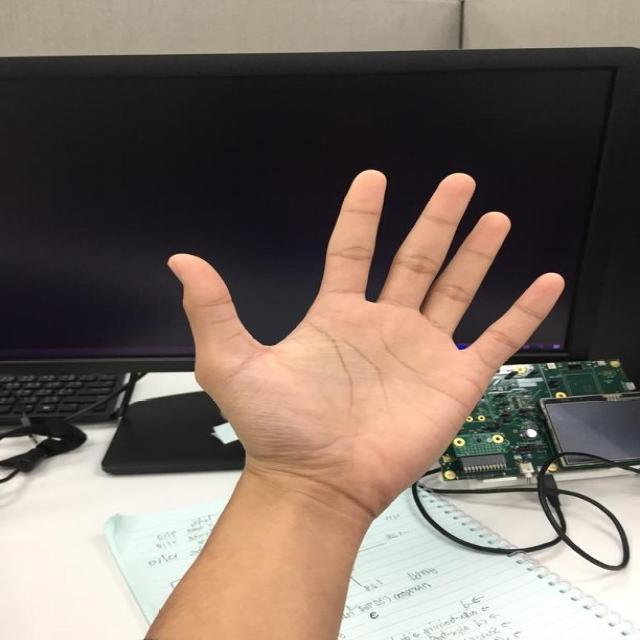hand: (166, 168, 566, 492)
